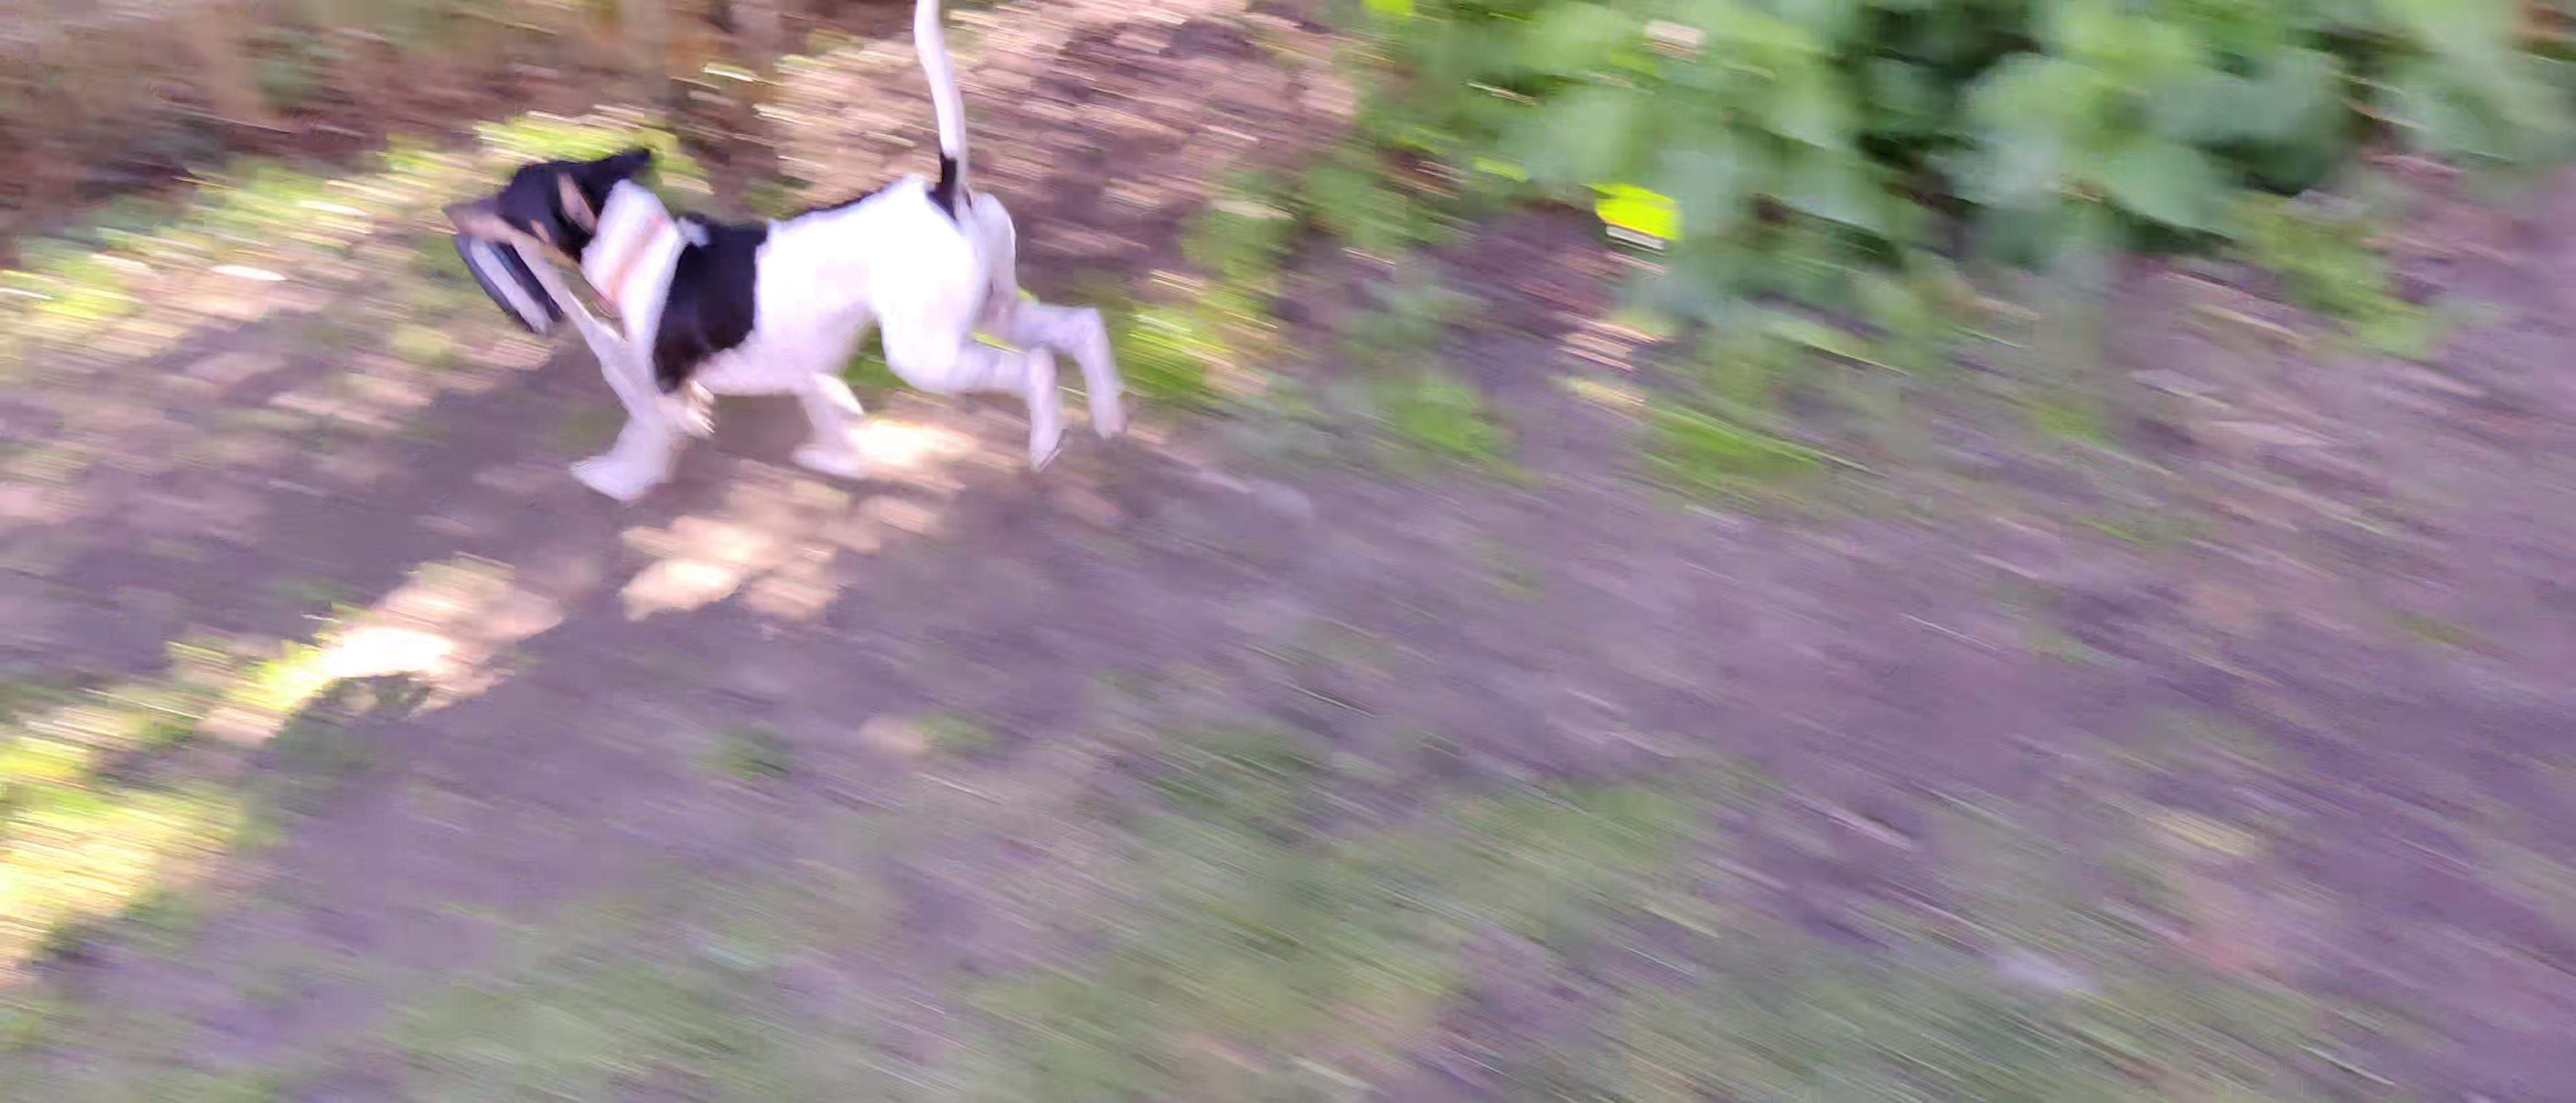Dog: (419, 0, 1143, 513)
